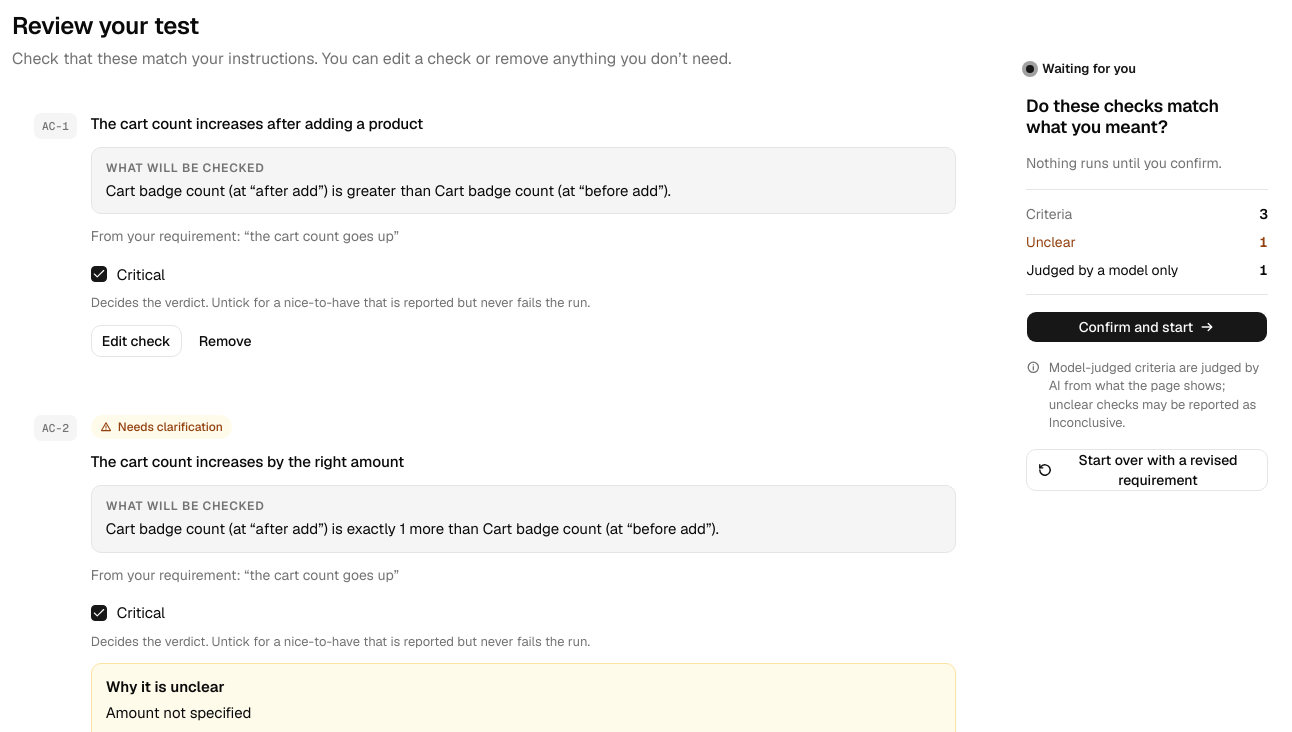
it: CriteriaReview › marks a criterion non-critical with PUT, and keeps the last critical one on (V1.1)
Step 1. Click the checkbox named "Critical" below "Needs clarification" → (99,612), box [91,604,107,620]
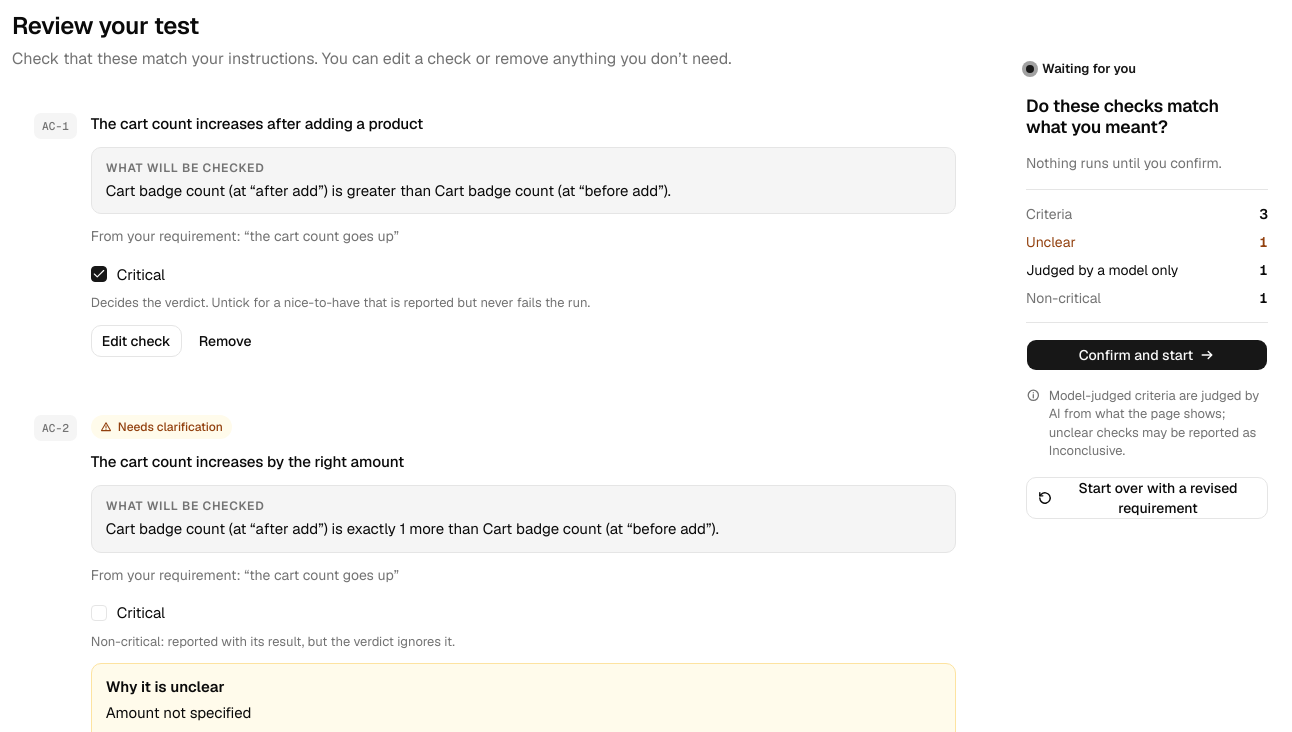
Expected: the text "The cart count increases by the right amount" is shown, [91,452,404,471]
Expected: the checkbox named "Critical" below "Needs clarification" is not checked, [91,604,107,620]
Expected: the text "Non-critical" is shown, [1026,288,1101,308]
